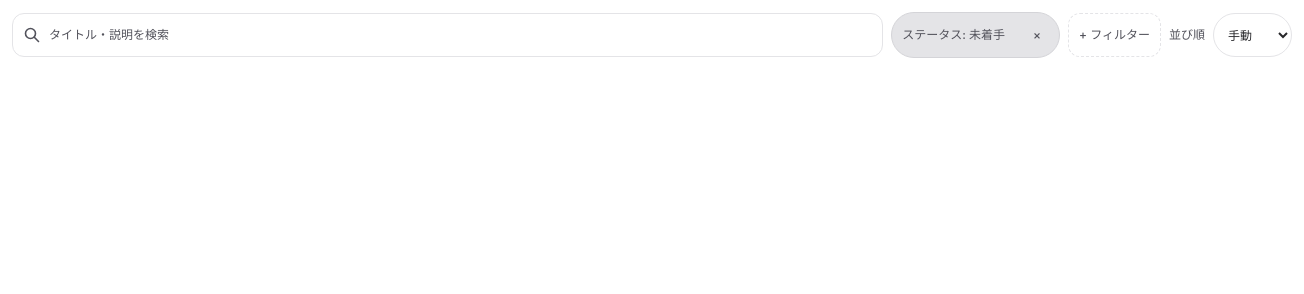
Test: TodoFilterBar › 選択済み属性 ["status"] をフィルターメニューから除外する
Click the button with aria-label "フィルターを追加".
click(1114, 35)  # box [1068,13,1161,57]
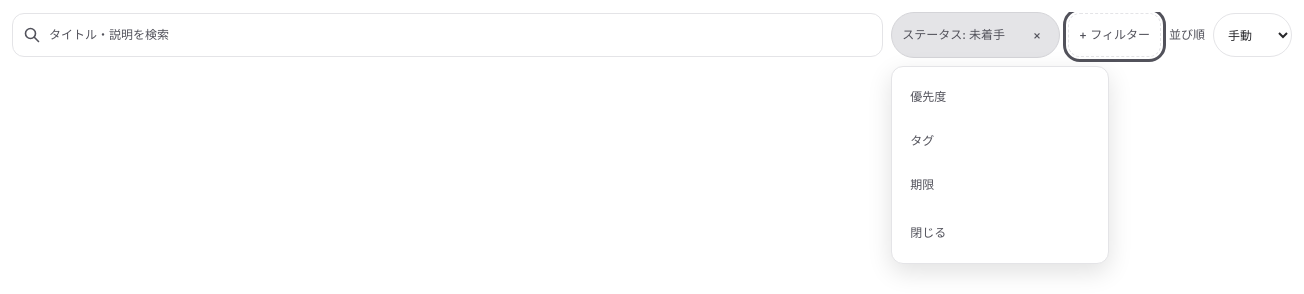
Expected: the menu item "優先度" is shown, [900,75,1100,119]
Expected: the menu item "タグ" is shown, [900,119,1100,163]
Expected: the menu item "期限" is shown, [900,163,1100,207]
